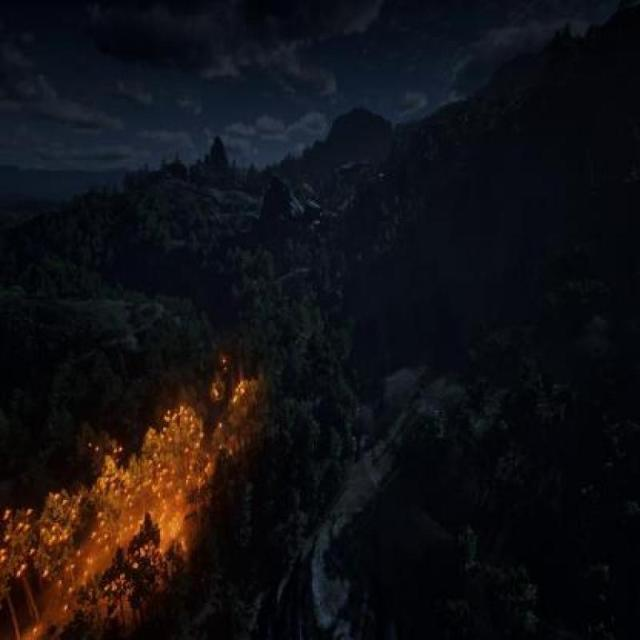Fire: (0, 333, 290, 639)
